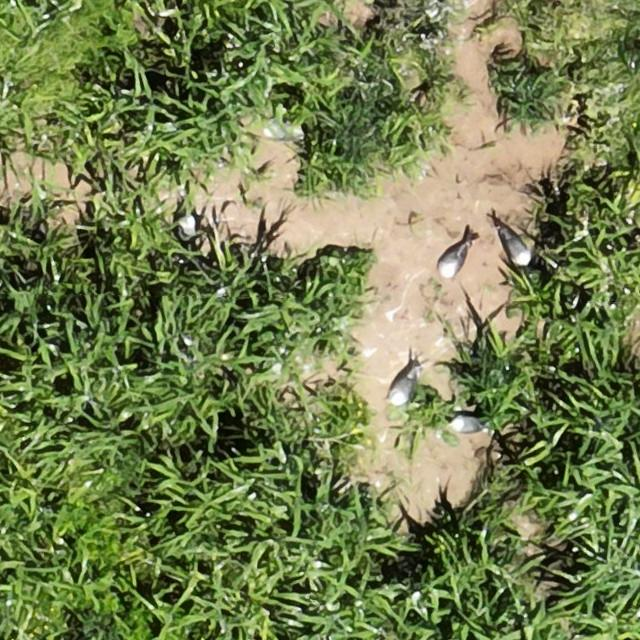umineko: (167, 214, 199, 250), (503, 230, 531, 264), (439, 247, 465, 278), (392, 371, 415, 403), (451, 416, 483, 432)
